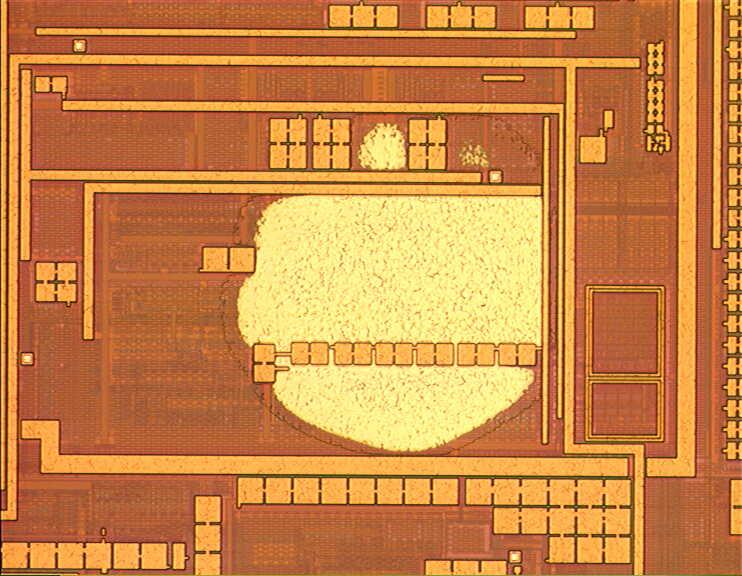BLOCK ETCH: (219, 110, 562, 459)
